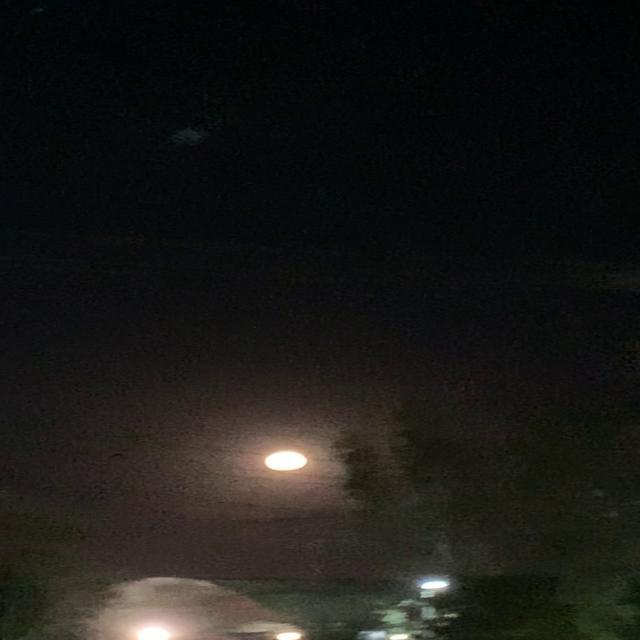moon: (270, 450, 323, 474)
